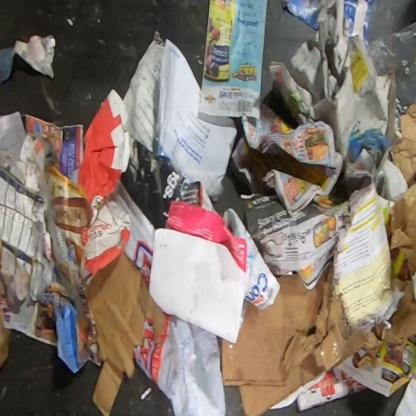cardboard: (221, 262, 415, 415), (84, 249, 166, 415), (77, 88, 135, 276)
rigid_plastic: (222, 208, 281, 310)
soft_plastic: (134, 311, 227, 416), (113, 180, 156, 287), (365, 21, 415, 106)
